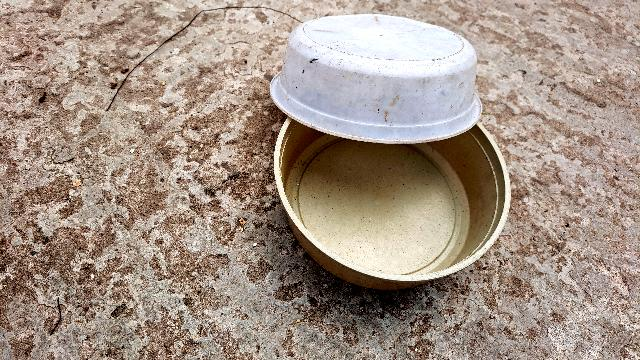hardplastic: (267, 12, 519, 289)
